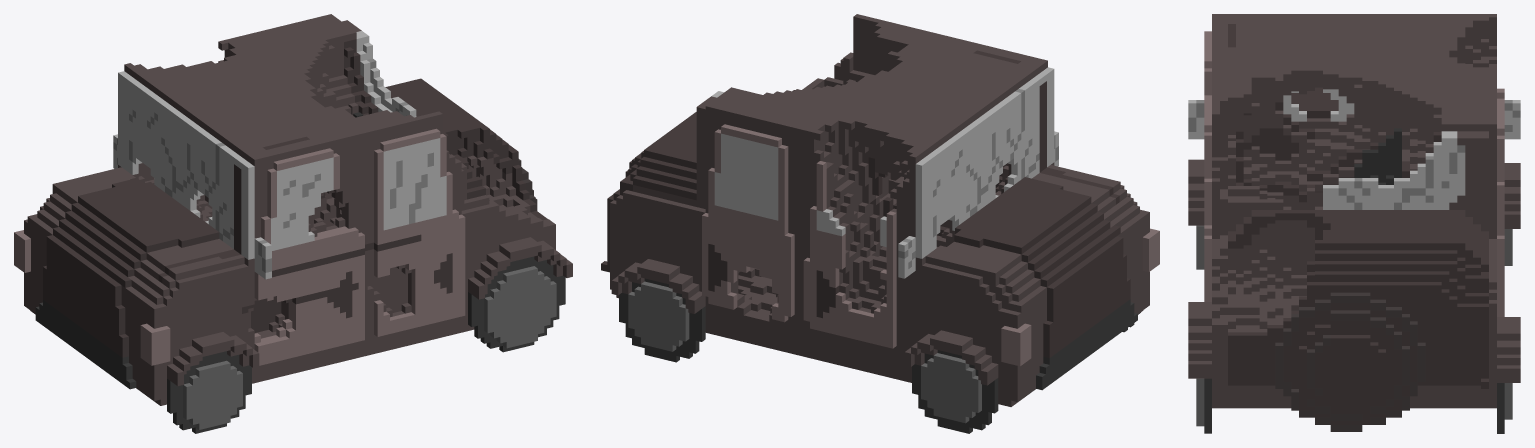
The model's file is Car1.obj.
3 renders of one model, left to right at view 1: azimuth 30°, elevation 25°; view 2: azimuth 150°, elevation 25°; view 3: azimuth 270°, elevation 25°, orthographic. The views are drawn at different scales.
Size of the model in its own units: 6.9 by 3.9 by 4.2.
1 material, 1 textured.
